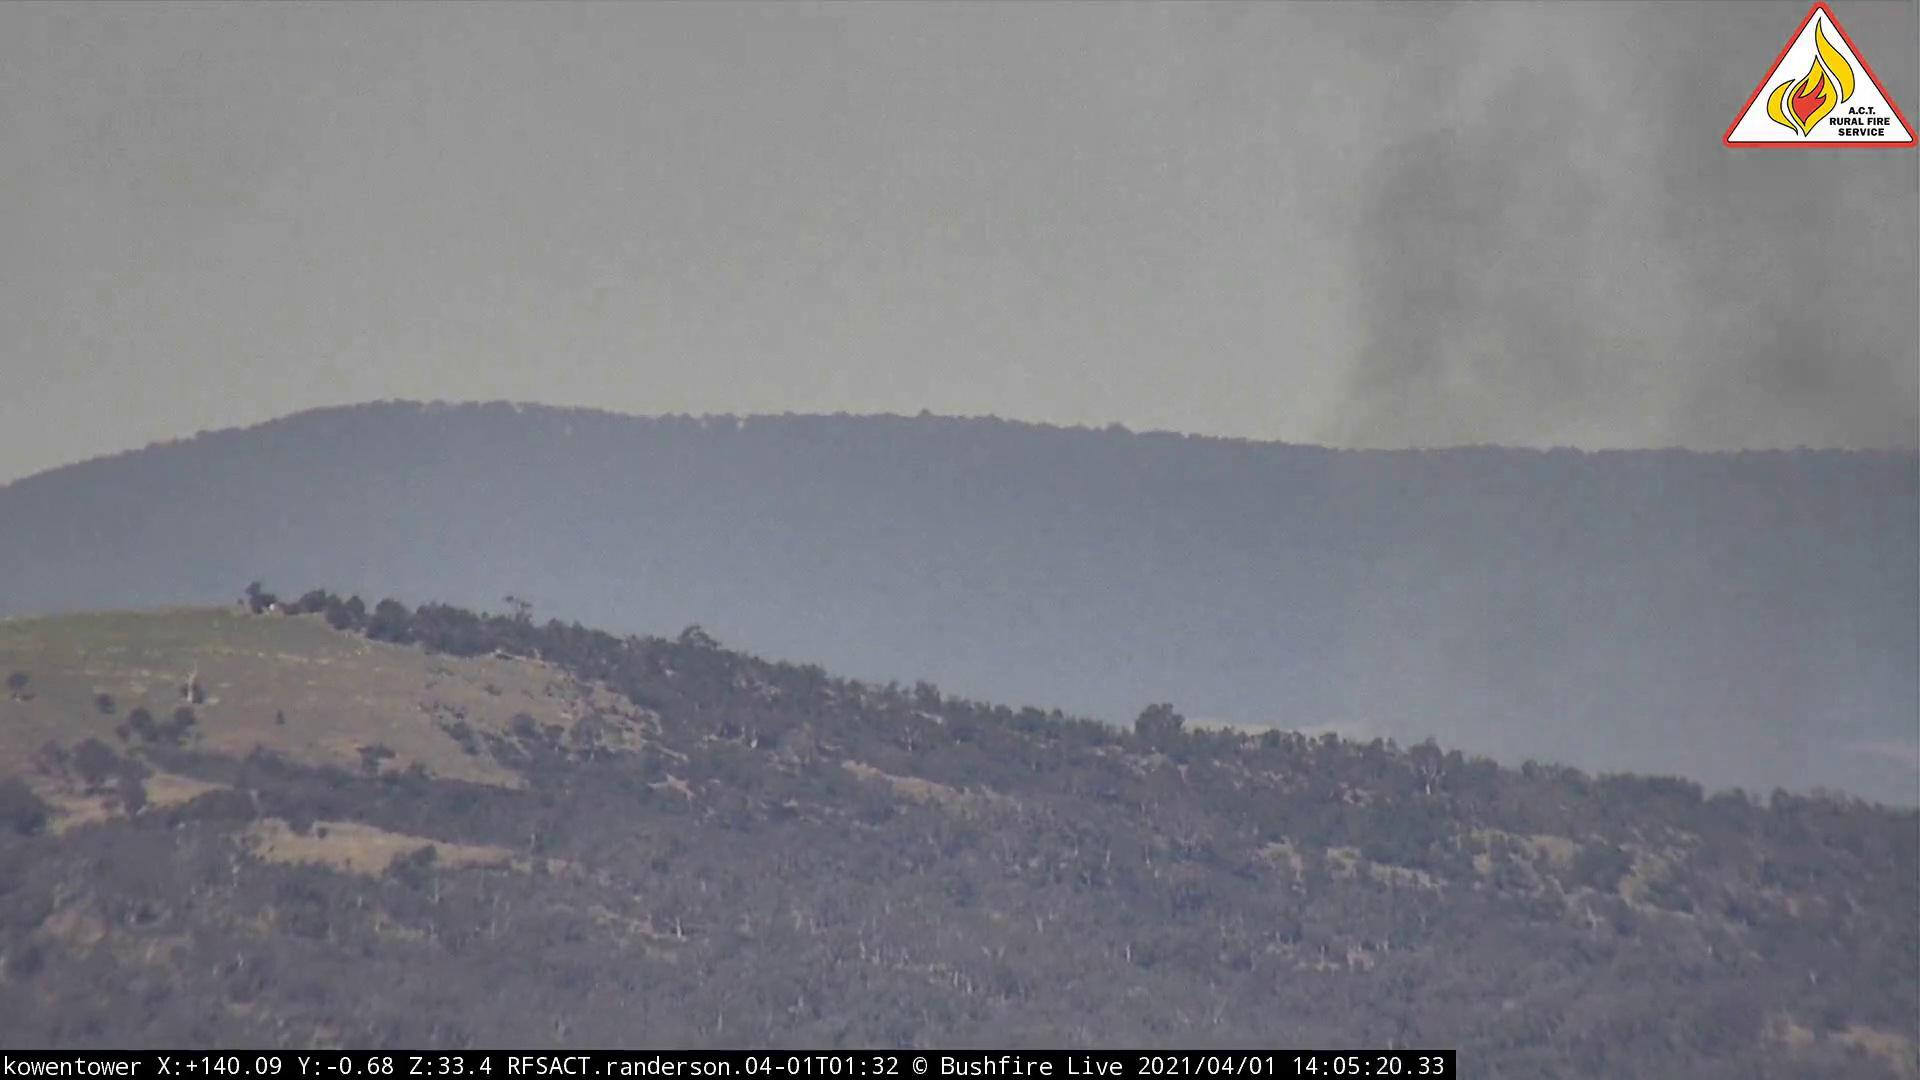Smoke: (1265, 165, 1920, 807)
